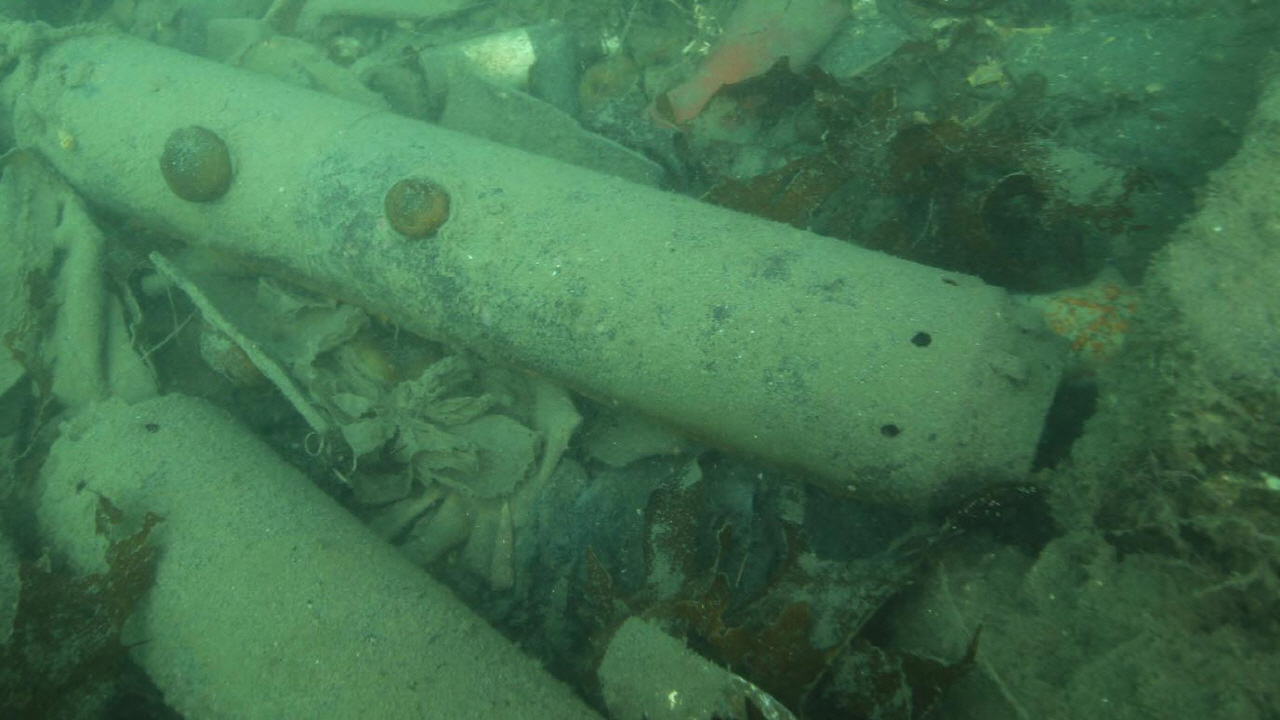eel fish trap: (29, 36, 1072, 508), (31, 390, 605, 720)
